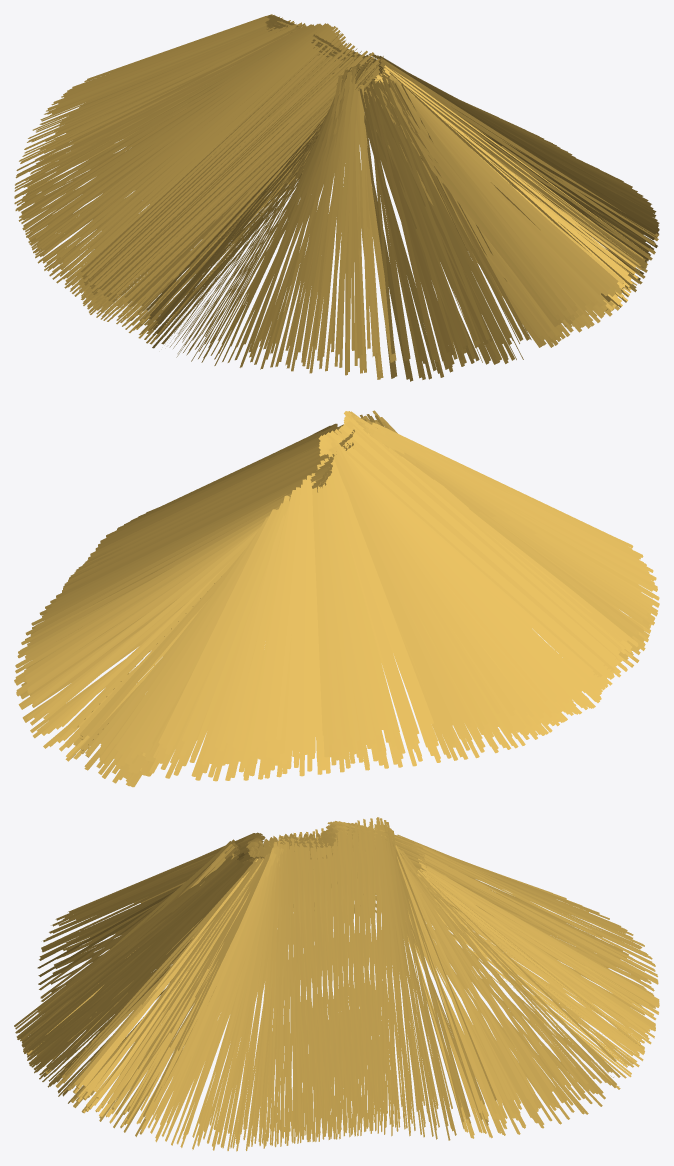
The model's file is Dach.fbx.
The picture shows the model from 3 angles, top to bottom: view 1: azimuth 30°, elevation 25°; view 2: azimuth 150°, elevation 25°; view 3: azimuth 270°, elevation 25°; orthographic projection. The views are drawn at different scales.
Visible parts, largest first — view 1: Dach; view 2: Dach; view 3: Dach.
Boxes of the visible parts, x1,y1,x2,y2 form: Dach: (14, 14, 659, 381); Dach: (14, 410, 659, 787); Dach: (14, 817, 659, 1151).
Size of the model in its own units: 6187 by 2698 by 7043.
